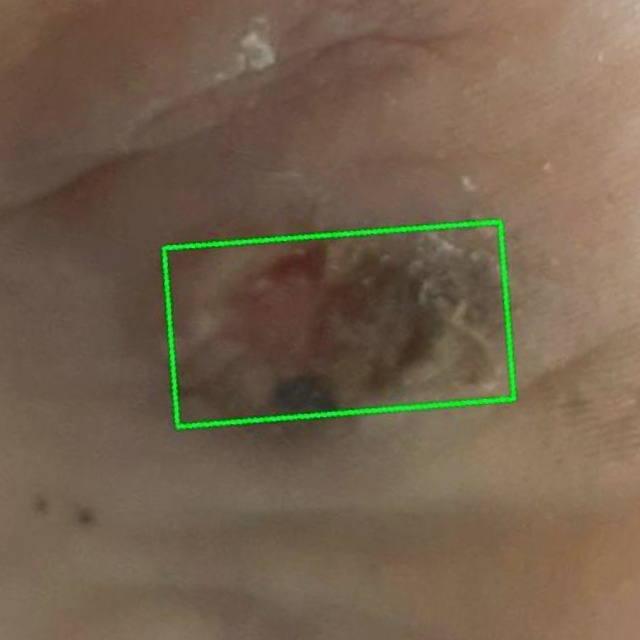Eczema: (163, 222, 513, 426)
